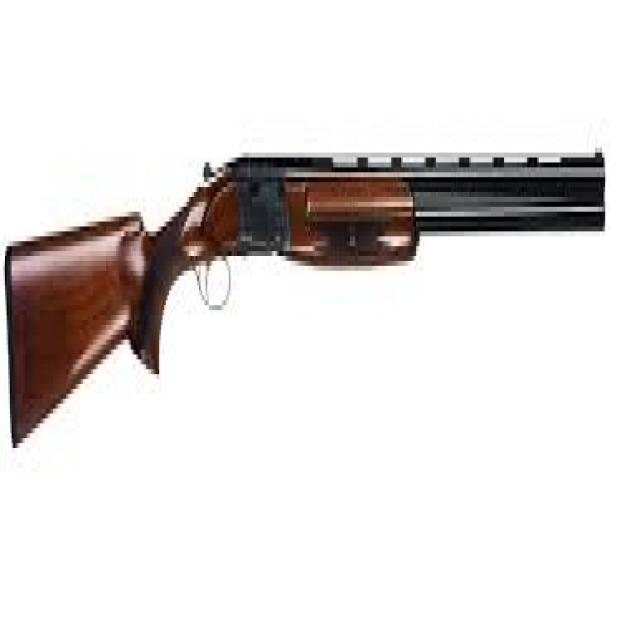rifle: (5, 134, 610, 476)
